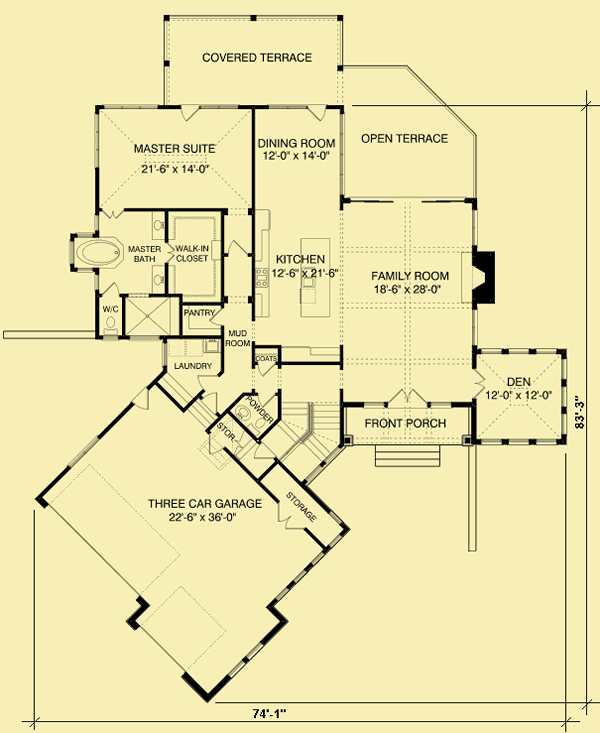door: (275, 499, 307, 536), (385, 386, 431, 411), (131, 386, 153, 415), (192, 371, 221, 393), (226, 234, 253, 257), (175, 102, 205, 122), (303, 103, 330, 124), (209, 302, 228, 327), (101, 280, 120, 298), (101, 210, 124, 220)
kitchen_bar: (296, 235, 335, 320)
large_sink: (243, 415, 268, 439), (97, 313, 121, 336)
small_sink: (147, 207, 167, 242), (149, 263, 166, 295), (230, 402, 252, 421)
stairs: (275, 400, 344, 479), (372, 440, 445, 470)
tub: (72, 238, 124, 272)
window: (475, 344, 562, 359), (479, 437, 560, 449), (91, 110, 103, 170), (100, 102, 161, 112), (338, 111, 345, 197), (469, 305, 480, 350), (470, 206, 479, 247)
